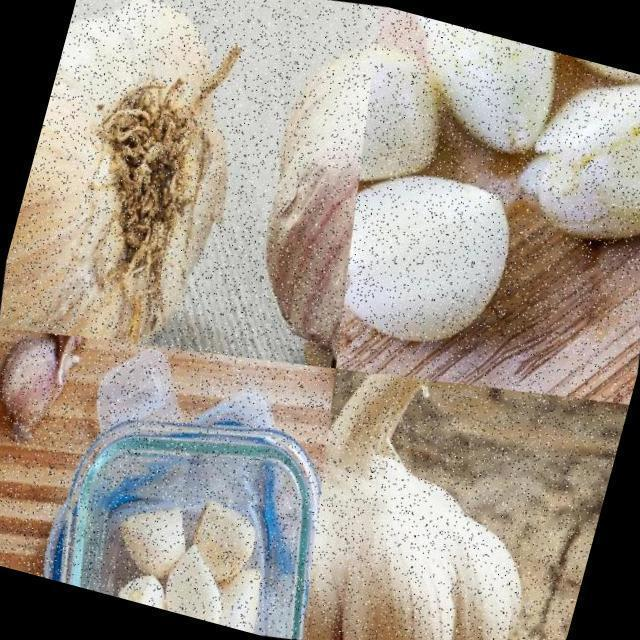garlic: (0, 0, 302, 380), (265, 340, 584, 640), (194, 0, 427, 379), (315, 140, 545, 378), (94, 468, 292, 635), (387, 16, 571, 178), (503, 51, 640, 267), (336, 29, 474, 217), (0, 313, 117, 456), (540, 50, 640, 113)
